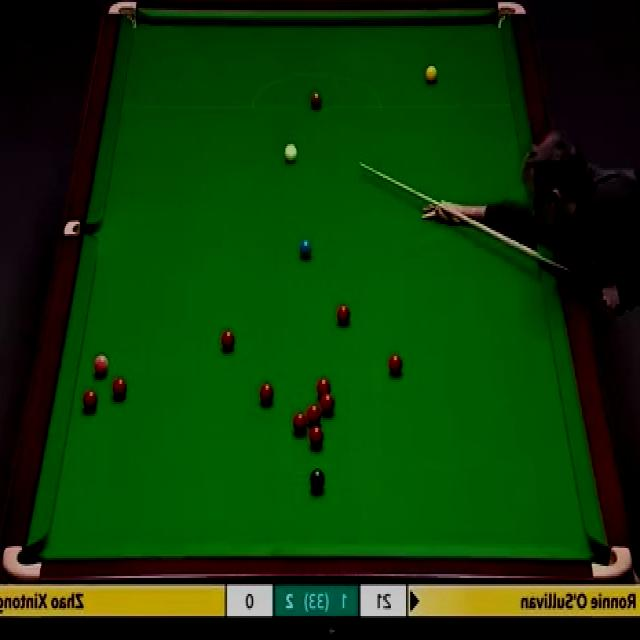pocket: (3, 538, 44, 580), (592, 543, 634, 579), (110, 0, 141, 35), (497, 0, 528, 29), (62, 220, 98, 237)
